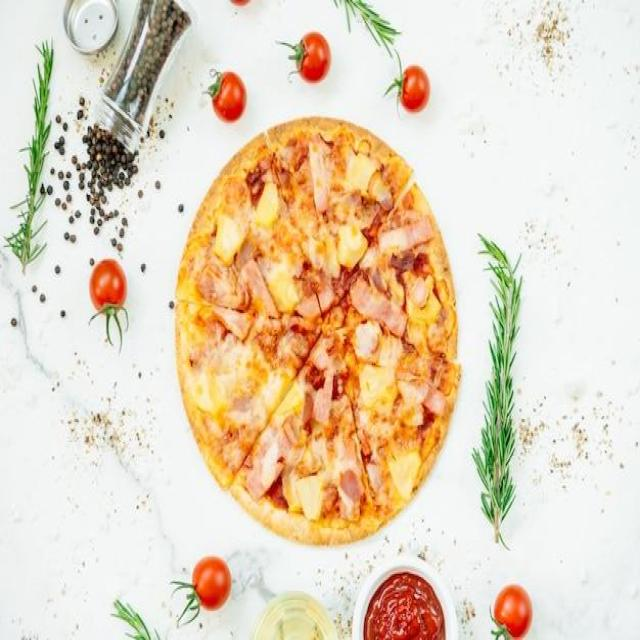basil: (474, 229, 533, 554), (6, 41, 54, 275), (310, 0, 402, 58), (105, 597, 158, 640)
pizza: (174, 113, 457, 543)
